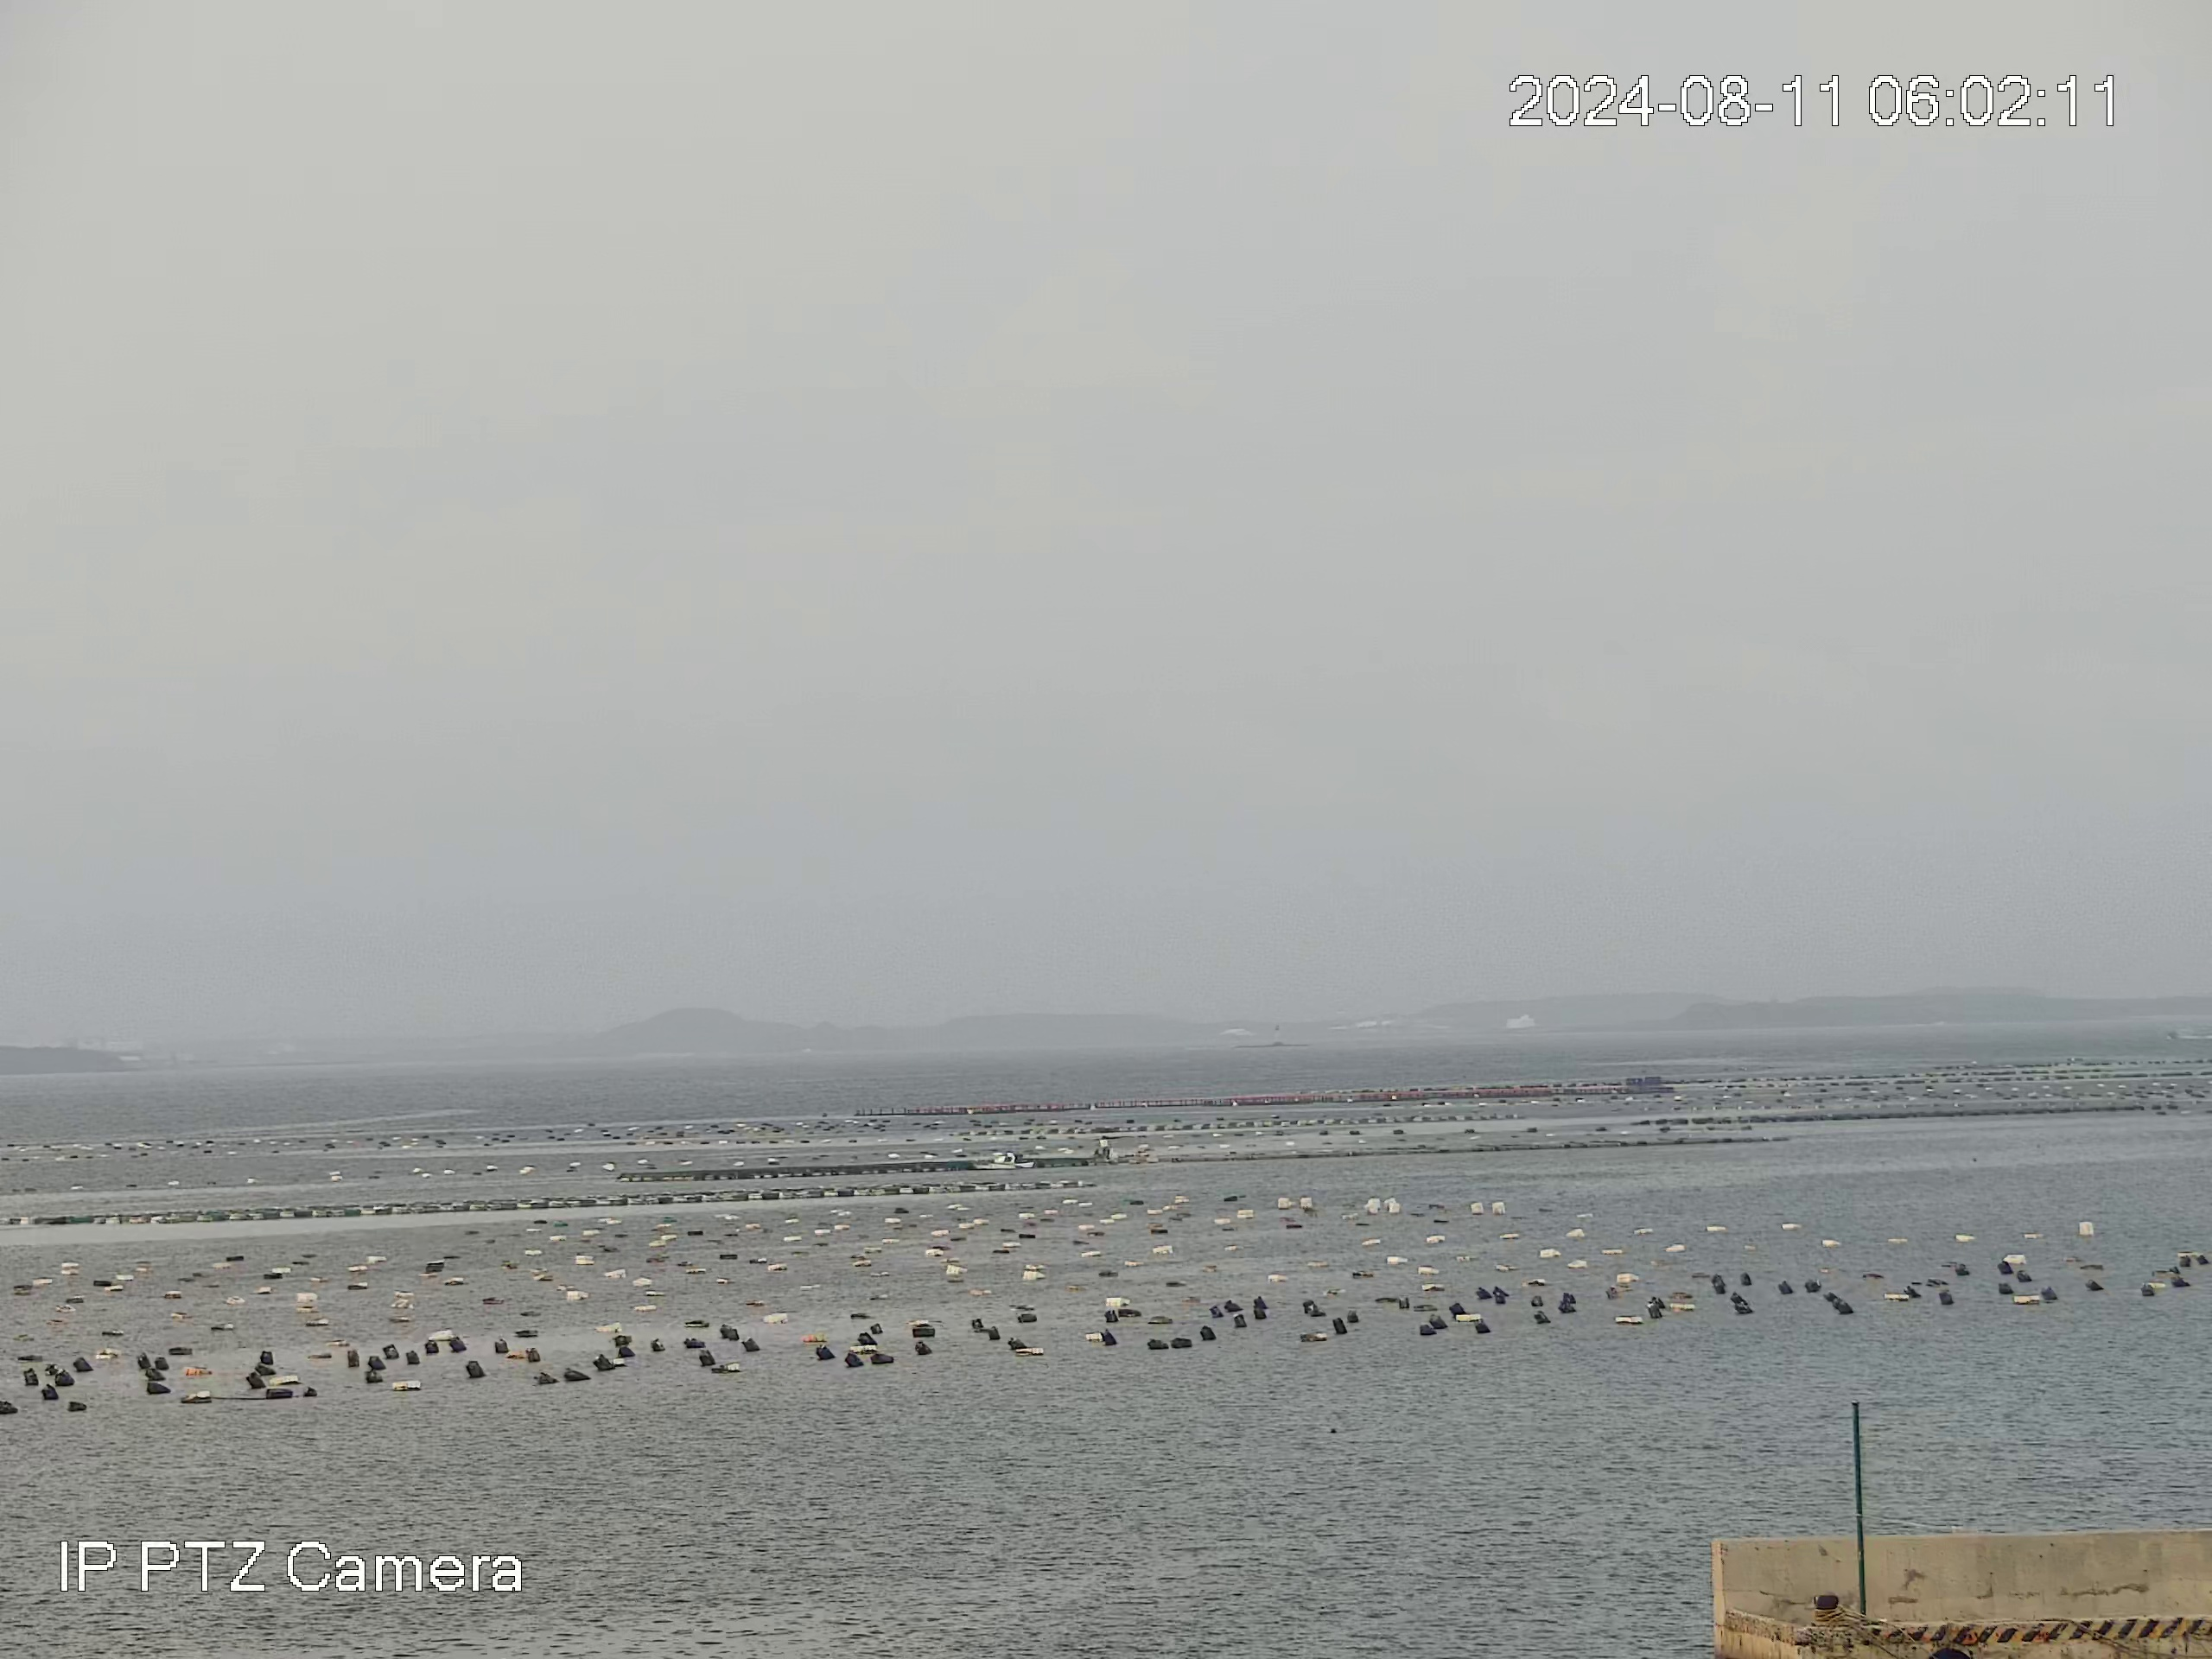boat: (968, 1148, 1036, 1171)
